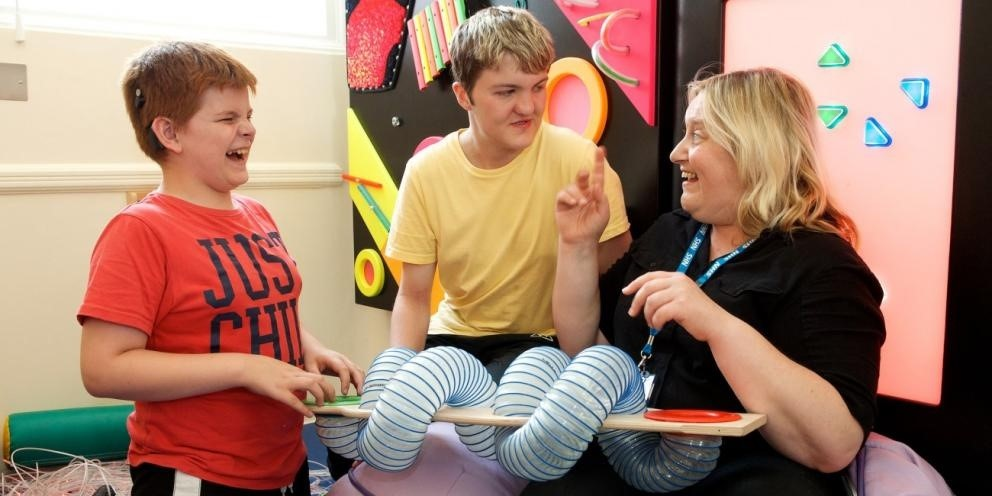face_no_mask: (666, 68, 810, 224), (124, 41, 257, 189), (450, 9, 555, 154)
